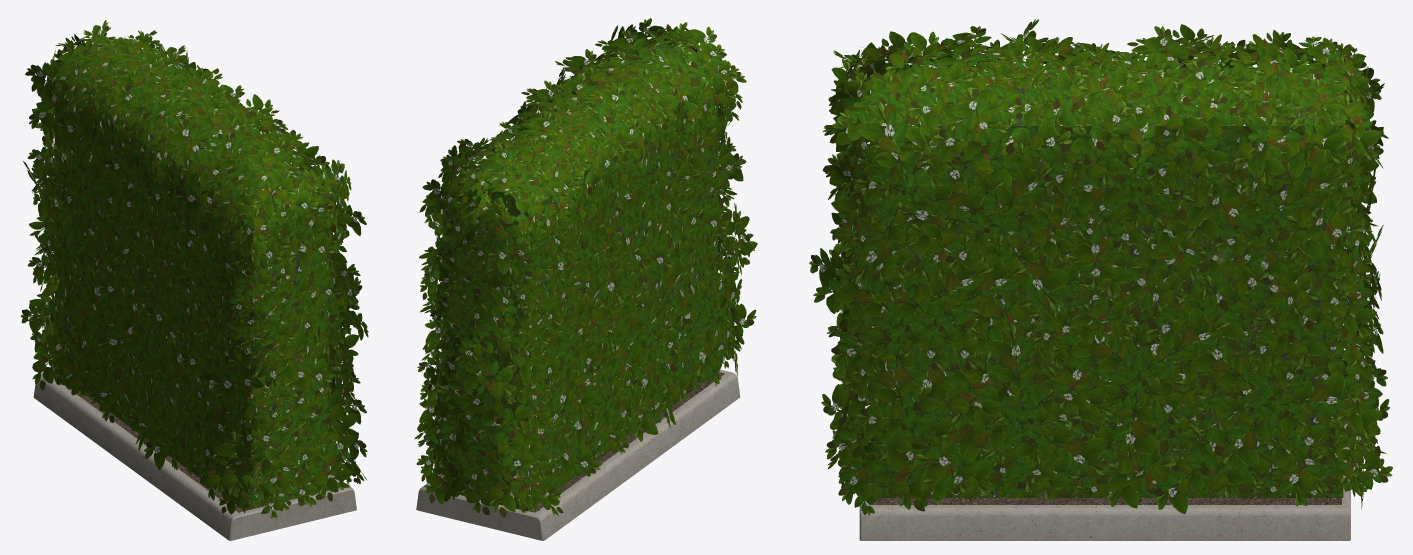
File: hedge_03_2m.FBX
The picture shows the model from 3 angles, left to right: view 1: azimuth 30°, elevation 25°; view 2: azimuth 150°, elevation 25°; view 3: azimuth 270°, elevation 25°; orthographic projection. The views are drawn at different scales.
Parts seen in each view (by area): view 1: hedge_03_2m; view 2: hedge_03_2m; view 3: hedge_03_2m.
Boxes of the visible parts, left/top/right/bottom form: hedge_03_2m: left=20, top=20, right=368, bottom=540; hedge_03_2m: left=414, top=18, right=757, bottom=540; hedge_03_2m: left=809, top=19, right=1392, bottom=540.
Size of the model in its own units: 99.78 by 212 by 246.
